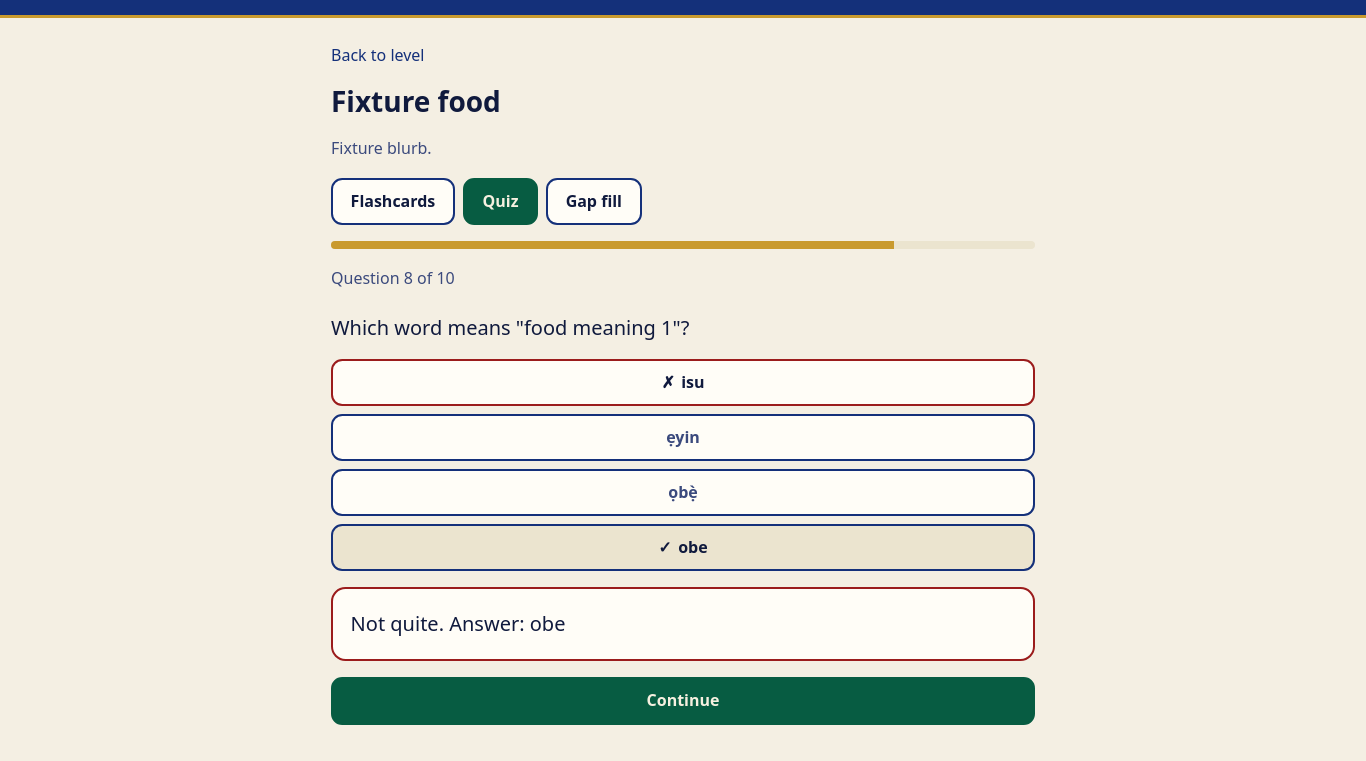
Test: vocab pages › retrying only the missed ones does not overwrite the full-run score
Earlier steps of the test are not shown.
(page scrolled)
Click the button "Continue".
click(683, 701)  # box [331, 677, 1035, 724]
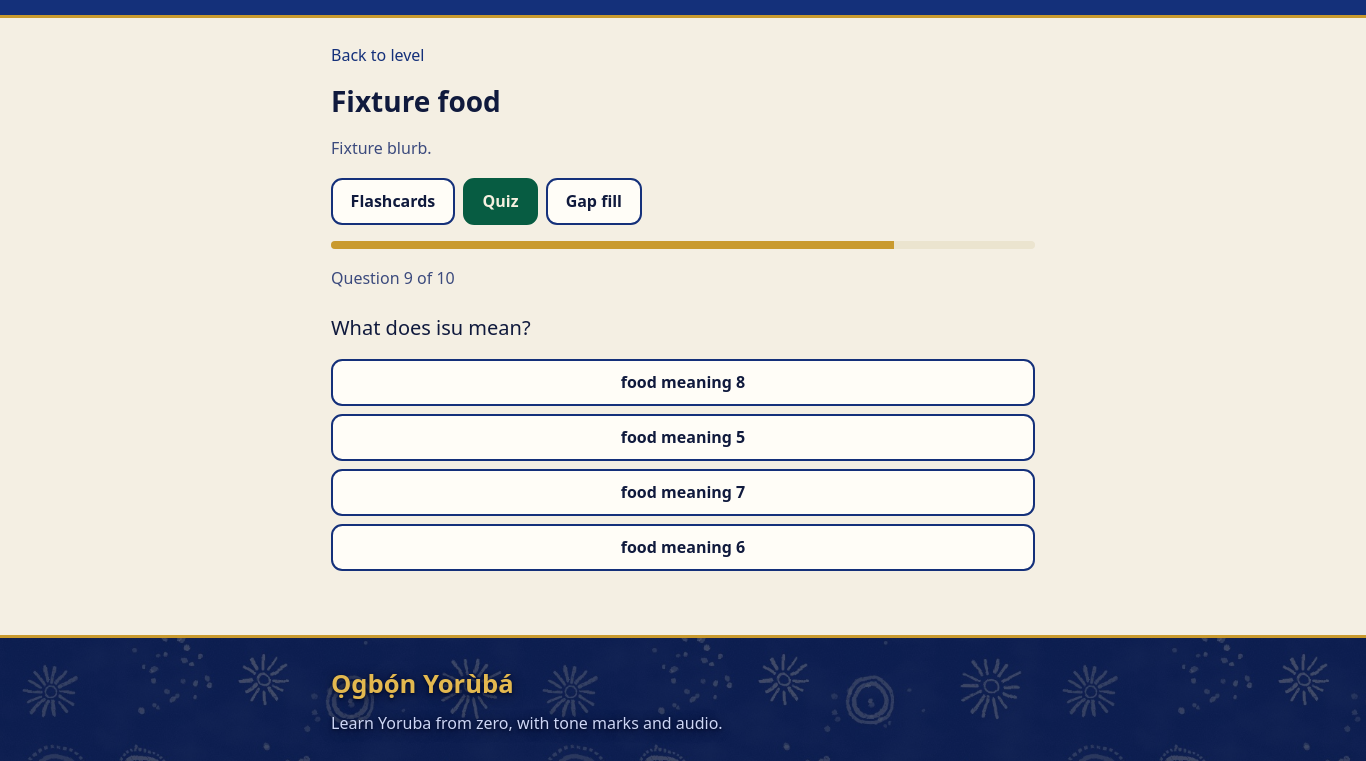
Click the button with test id "choice" showing "food meaning 8".
click(683, 382)  # box [331, 359, 1035, 406]
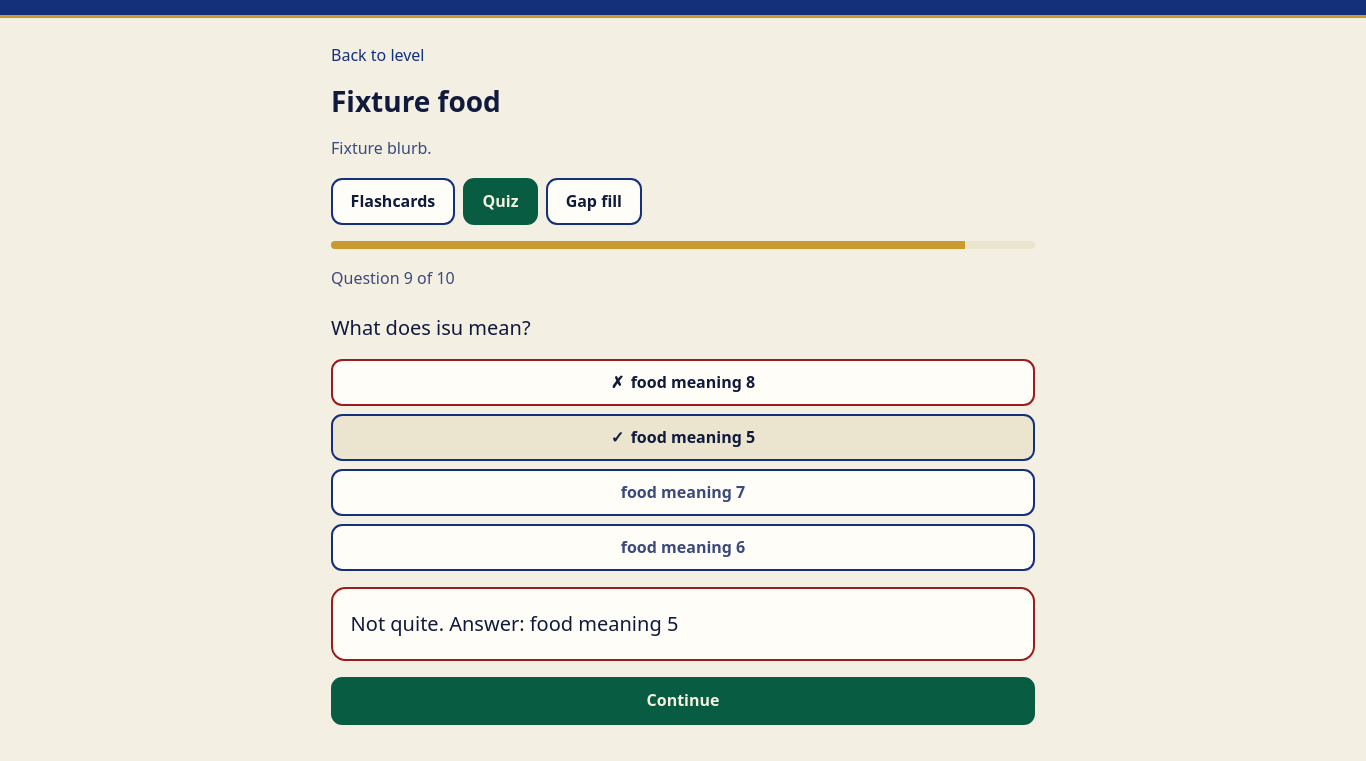
Click the button "Continue".
click(683, 701)  # box [331, 677, 1035, 724]
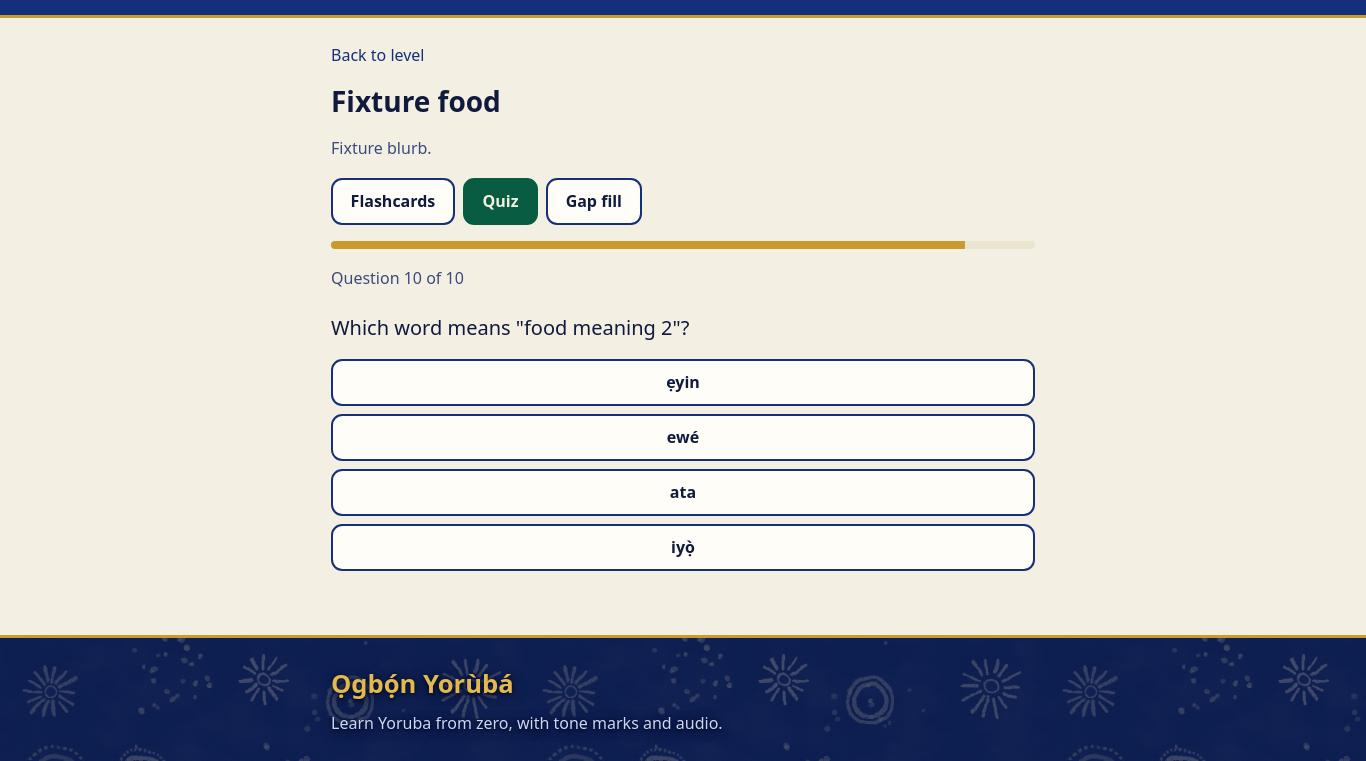
Click the button with test id "choice" showing "ẹyin".
click(683, 382)  # box [331, 359, 1035, 406]
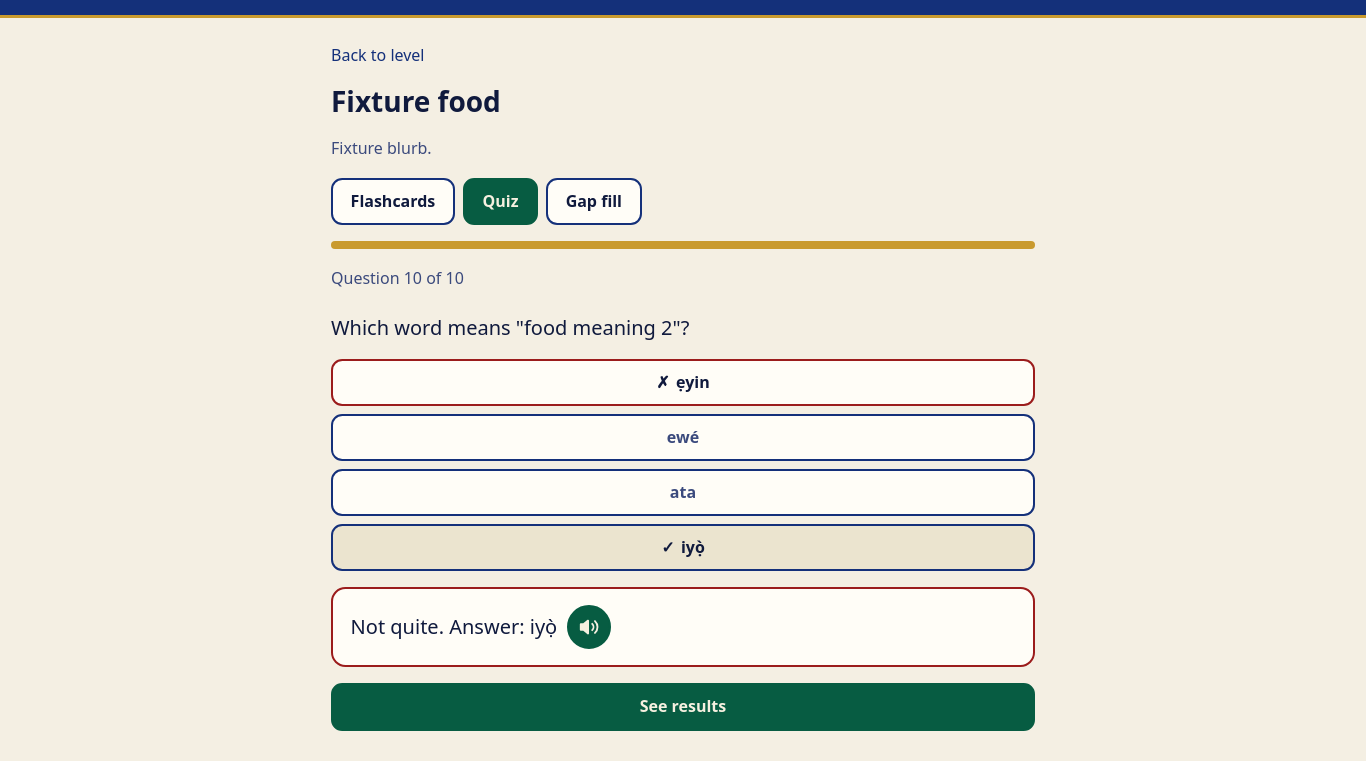
Click the button "See results".
click(683, 707)  # box [331, 683, 1035, 730]
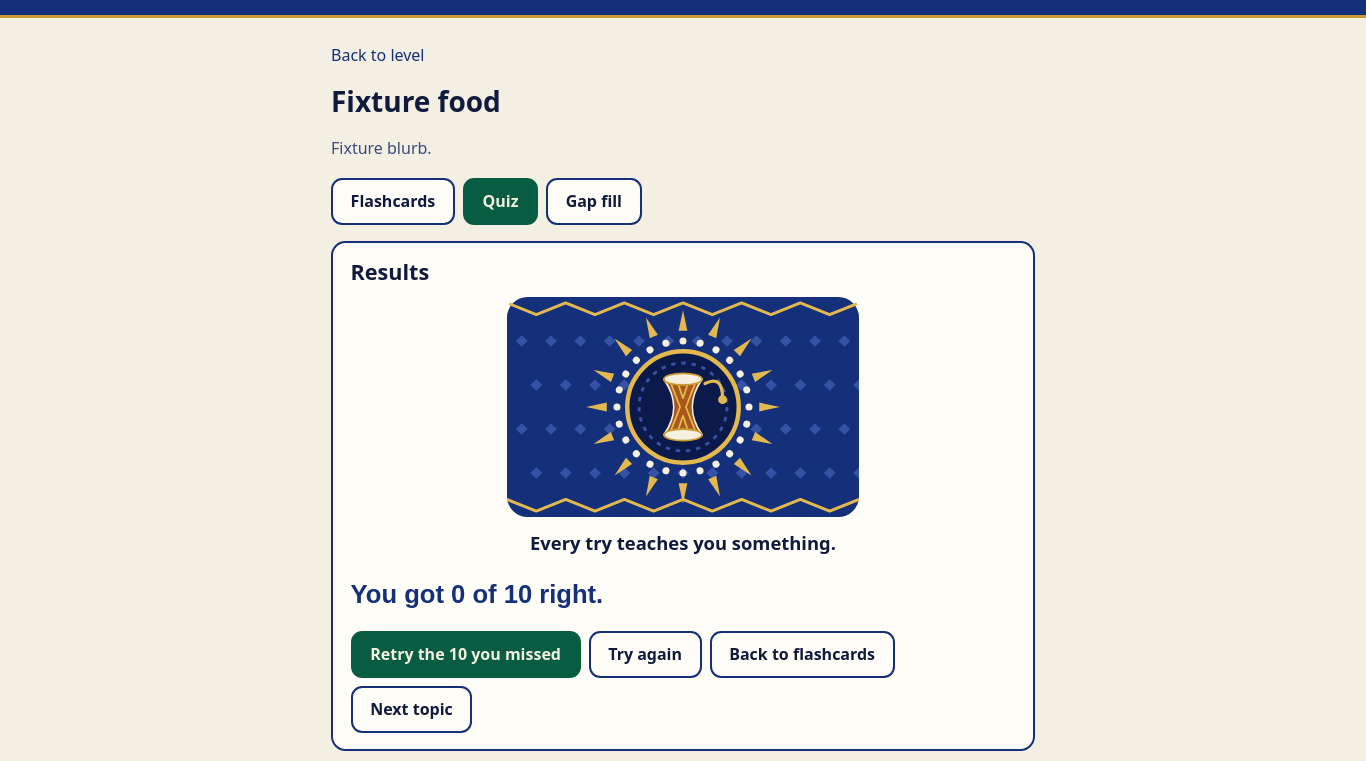
Expected: the text "You got 0 of 10 right." is shown, [351, 580, 603, 608]
Click the button "Retry the 10 you missed".
click(466, 654)  # box [351, 631, 581, 678]
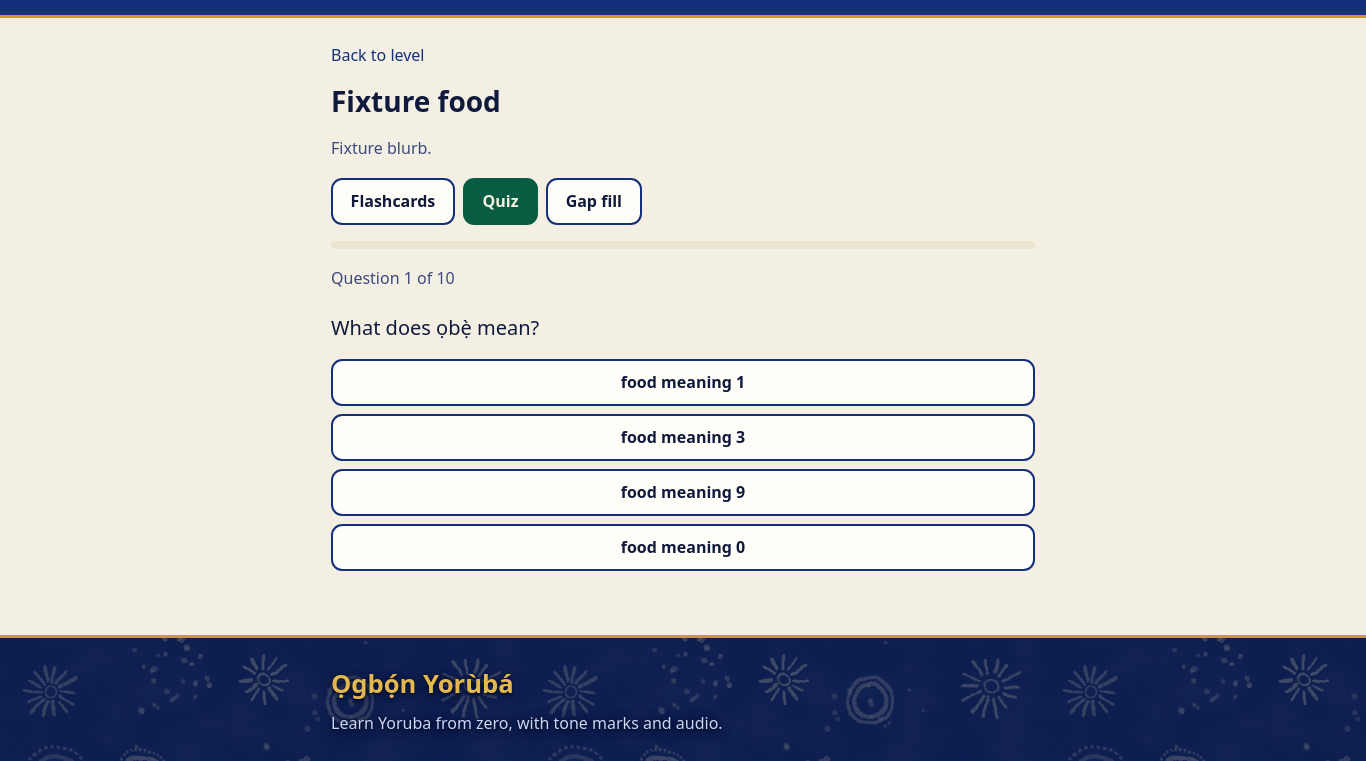
Expected: the text "Question 1 of 10" is shown, [331, 267, 455, 289]
